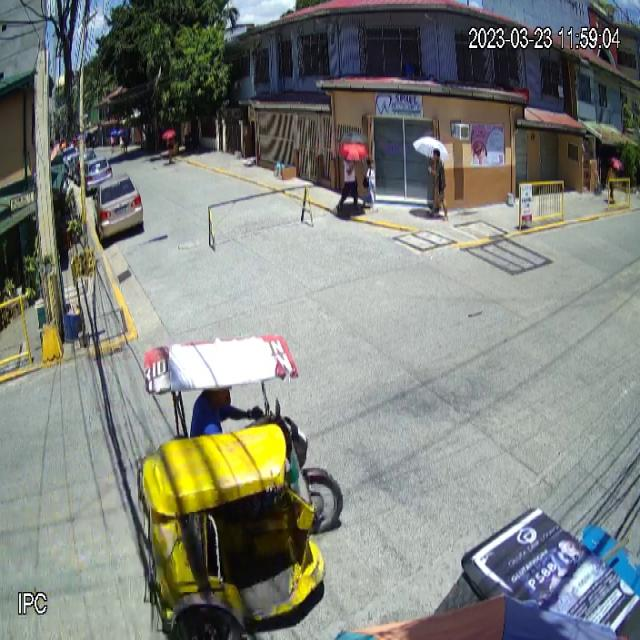Tricycle: (132, 342, 344, 640)
